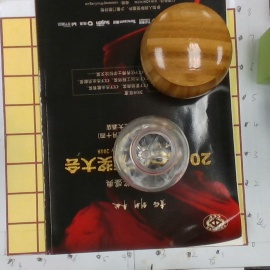bottle: (112, 115, 189, 193)
chess: (140, 4, 234, 100)
